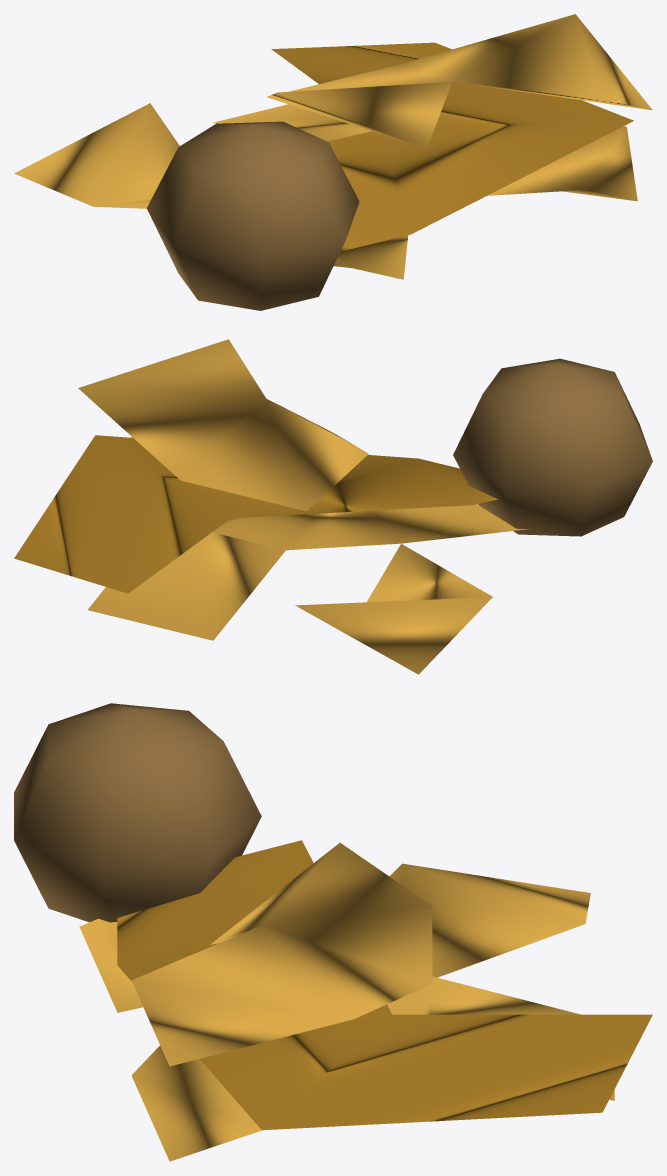
File: loot_gold_lod2.glb
The picture shows the model from 3 angles, top to bottom: view 1: azimuth 30°, elevation 25°; view 2: azimuth 150°, elevation 25°; view 3: azimuth 270°, elevation 25°; orthographic projection. The views are drawn at different scales.
Visible parts, largest first — view 1: prop.loot_gold; view 2: prop.loot_gold; view 3: prop.loot_gold.
Part boxes in pixels (x1,y1,x2,y2): prop.loot_gold: (14, 14, 652, 310); prop.loot_gold: (14, 339, 652, 674); prop.loot_gold: (14, 703, 652, 1161).
Size of the model in its own units: 0.3581 by 0.1246 by 0.3159.
